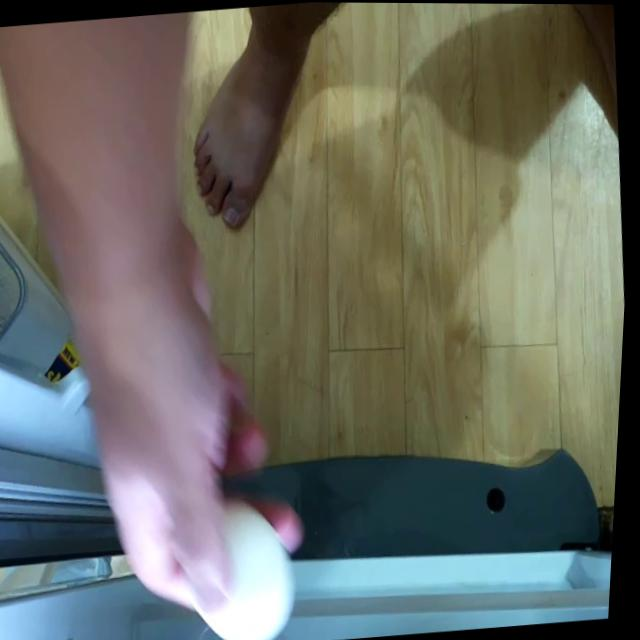egg: (195, 494, 307, 640)
